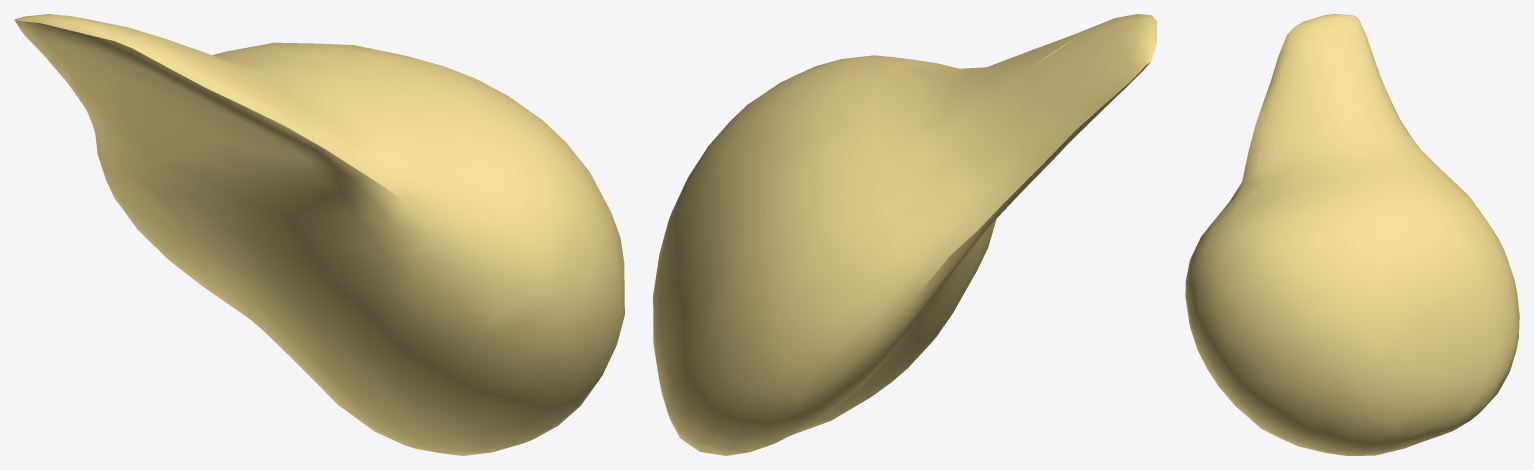
The model's file is fma73513_mm3532m.glb.
3 views of the same model, side by side, from view 1: azimuth 30°, elevation 25°; view 2: azimuth 150°, elevation 25°; view 3: azimuth 270°, elevation 25° (orthographic). The views are drawn at different scales.
Parts seen in each view (by area): view 1: FMA73513_MM3532M; view 2: FMA73513_MM3532M; view 3: FMA73513_MM3532M.
Boxes of the visible parts, box(x1,y1,x2,y2) form: FMA73513_MM3532M: box(14, 14, 624, 455); FMA73513_MM3532M: box(653, 14, 1156, 455); FMA73513_MM3532M: box(1185, 14, 1519, 455).
Bounding box in the file's own units: 0.00439 × 0.004 × 0.00385.
